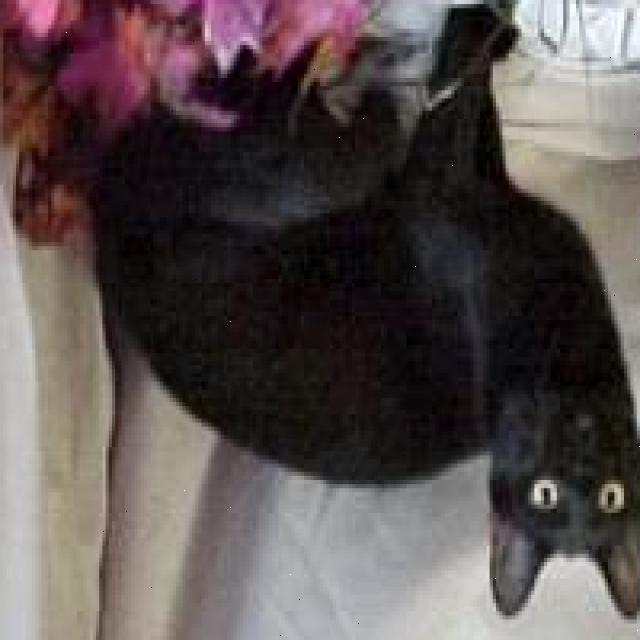Cat: (451, 369, 640, 640)
